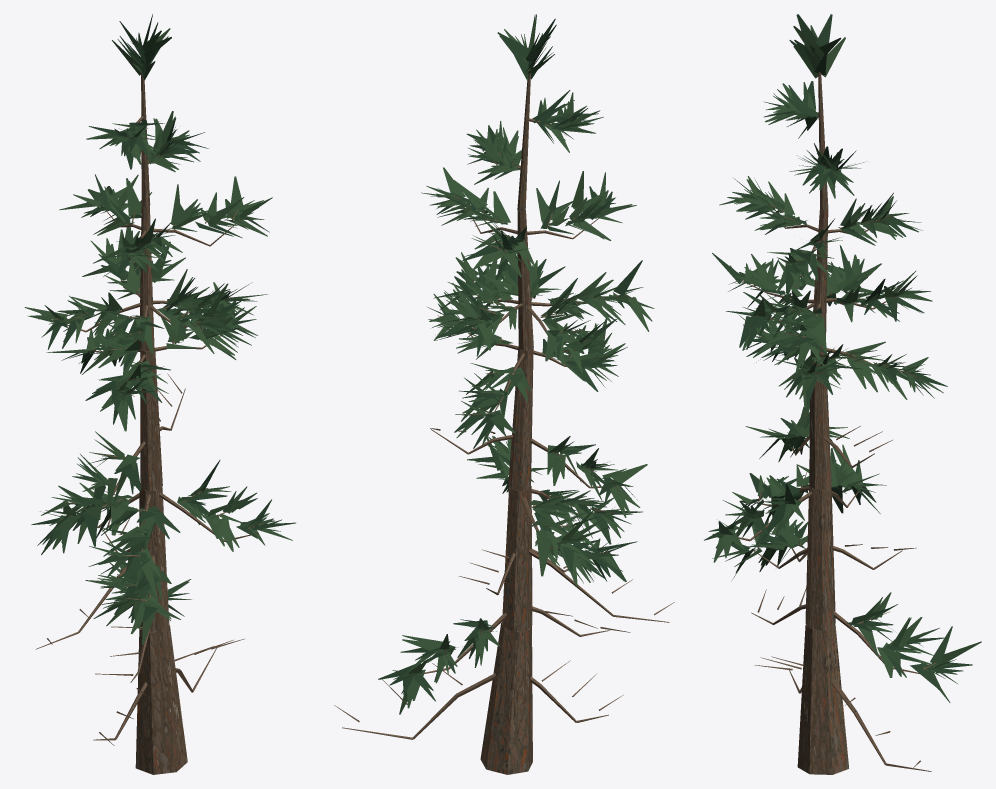
The model's file is detail_pine_old_far.glb.
The picture shows the model from 3 angles, left to right: view 1: azimuth 30°, elevation 25°; view 2: azimuth 150°, elevation 25°; view 3: azimuth 270°, elevation 25°; orthographic projection.
Parts seen in each view (by area): view 1: Cone; view 2: Cone; view 3: Cone.
Part boxes in pixels (x1,y1,x2,y2): Cone: [24, 14, 295, 774]; Cone: [334, 14, 674, 774]; Cone: [704, 14, 981, 774].
Size of the model in its own units: 5.07 by 13.27 by 4.55.
3 materials, 1 textured.
